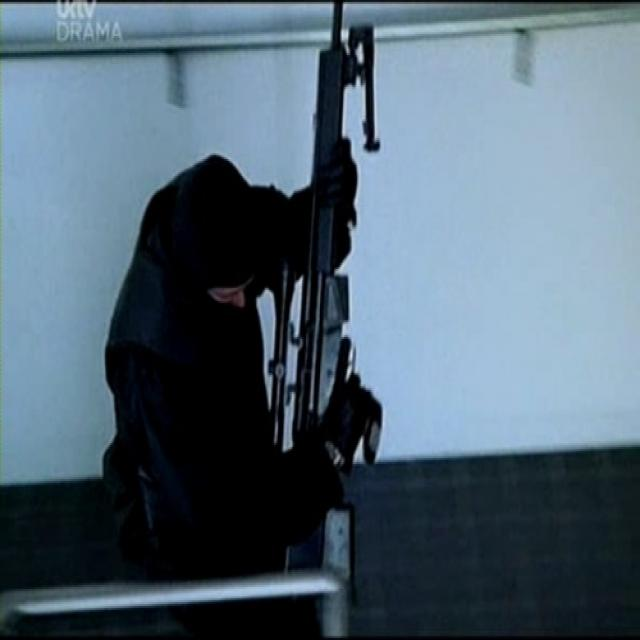rifle: (271, 4, 391, 640)
